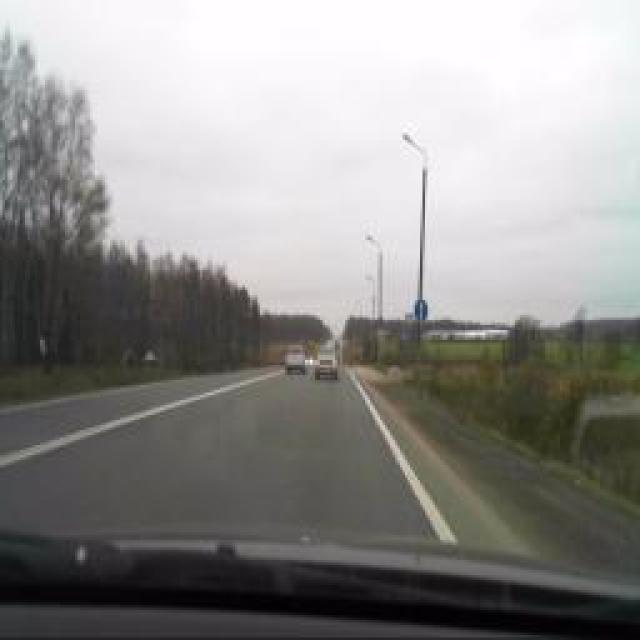sign: (414, 298, 428, 324), (403, 329, 415, 346)
